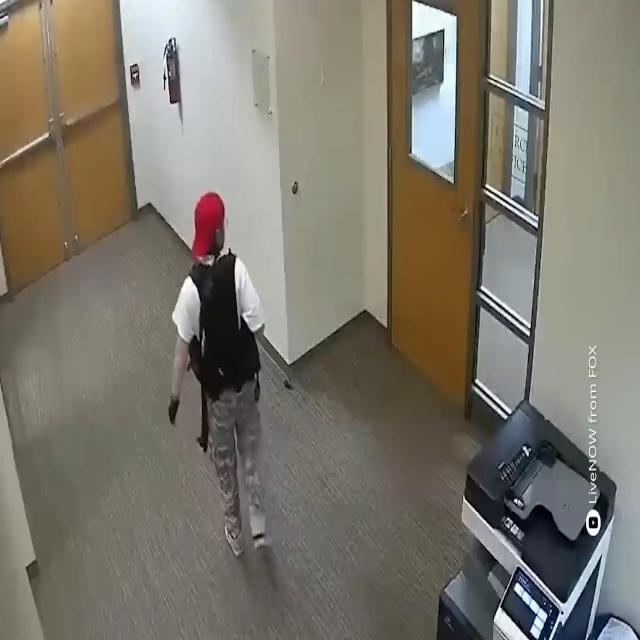pistol: (194, 318, 212, 460)
